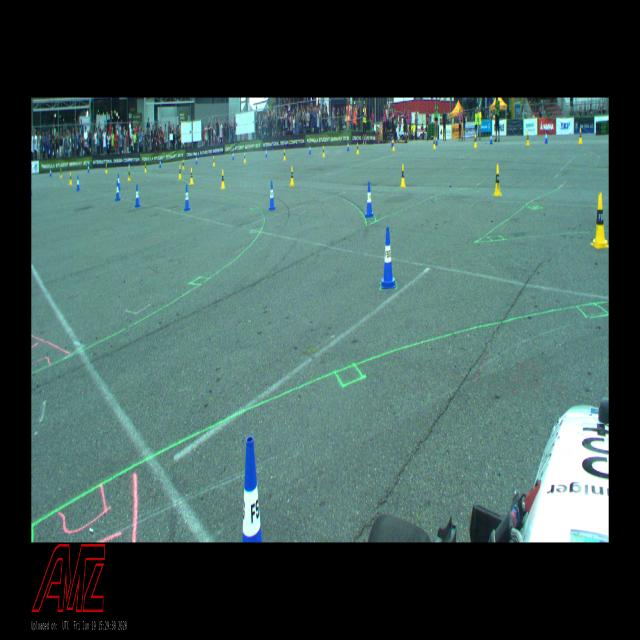blue_cone: (242, 436, 262, 542), (380, 228, 396, 288), (364, 182, 374, 218), (268, 180, 276, 210), (184, 183, 190, 210), (134, 184, 140, 206), (116, 180, 120, 201), (76, 174, 80, 190), (544, 129, 548, 143), (118, 173, 120, 190), (490, 130, 492, 144), (436, 133, 438, 145), (266, 147, 268, 158), (347, 140, 349, 151), (232, 150, 234, 160), (309, 144, 311, 154), (391, 136, 393, 146)
yellow_cone: (590, 194, 608, 248), (492, 163, 502, 197), (400, 163, 406, 187), (220, 169, 226, 189), (290, 165, 294, 188), (578, 127, 582, 145), (526, 128, 530, 146), (473, 133, 478, 147), (190, 167, 194, 184), (432, 136, 437, 149), (178, 164, 182, 180), (68, 171, 72, 184), (356, 142, 359, 154), (322, 146, 325, 158), (182, 158, 185, 170), (284, 148, 286, 160), (392, 140, 394, 151), (213, 155, 215, 166), (244, 152, 246, 162)
